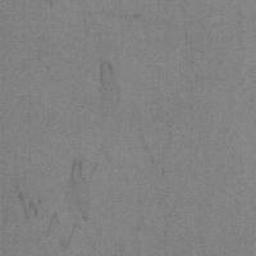Water spot: (47, 176, 88, 249), (99, 63, 114, 88), (18, 192, 30, 219)
